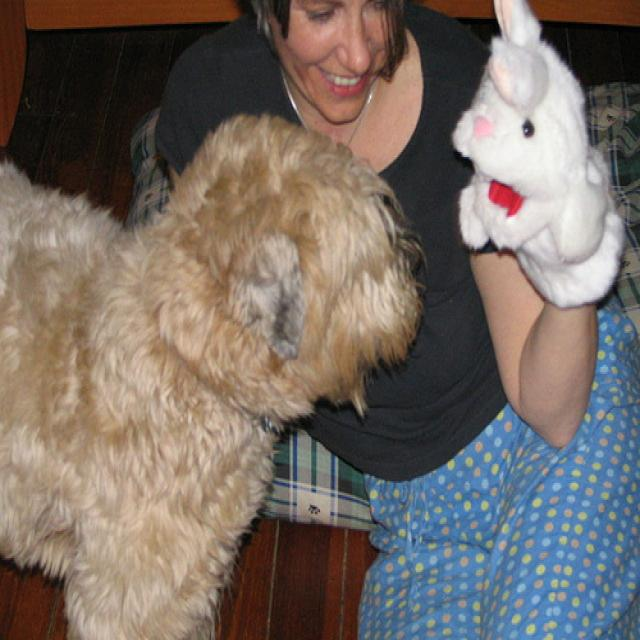dog-wheaten_terrier: (1, 106, 422, 637)
